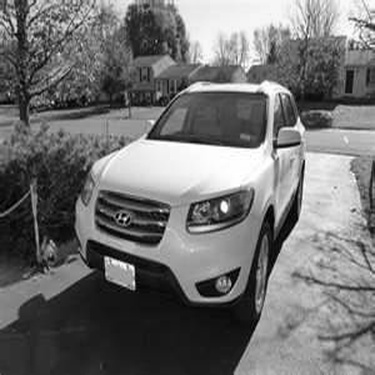car: (65, 48, 322, 323)
